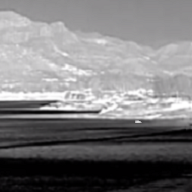Target: (134, 120, 142, 124)
